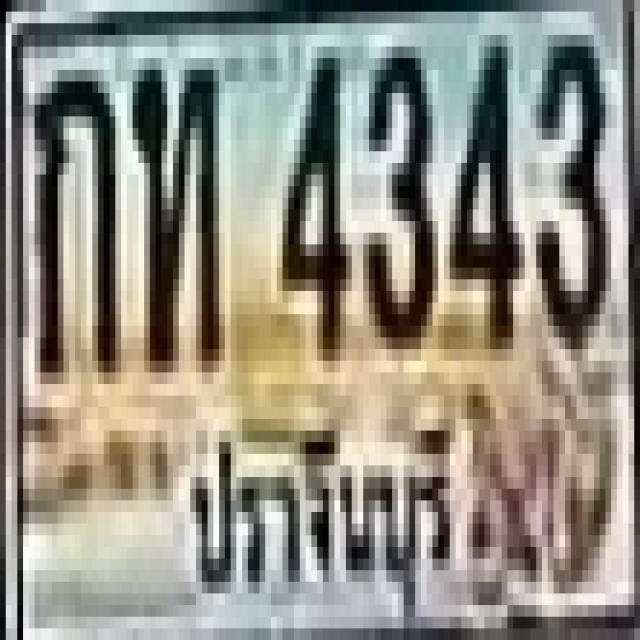3: (530, 24, 600, 338), (360, 35, 430, 337)
4: (444, 35, 513, 337), (280, 47, 343, 349)
A01: (32, 59, 112, 372)
A23: (130, 58, 216, 361)
PRI: (180, 416, 459, 630)
